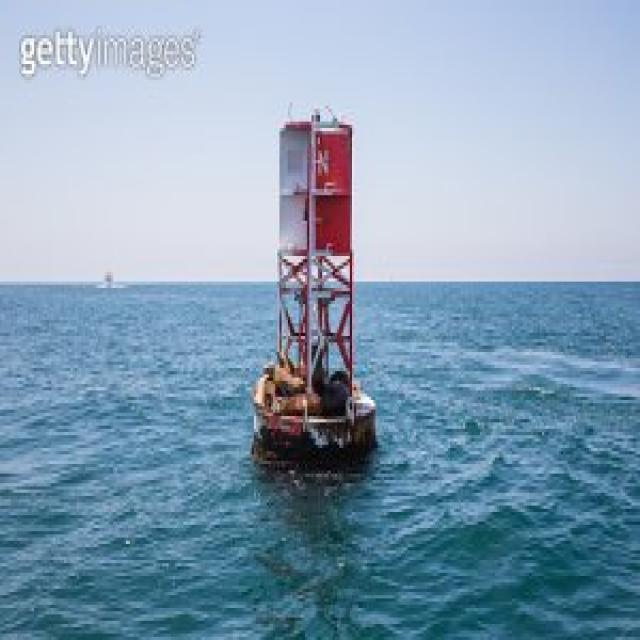marque: (232, 92, 382, 479)
